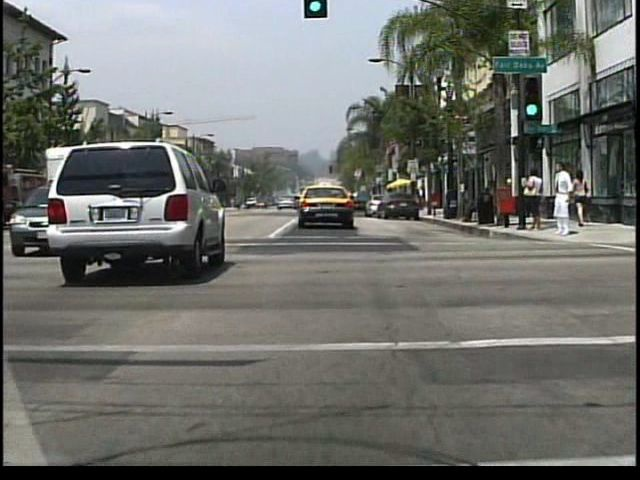person: (551, 161, 574, 237), (524, 165, 544, 234), (571, 168, 590, 228), (459, 189, 482, 224), (481, 179, 493, 221), (417, 186, 427, 213)
